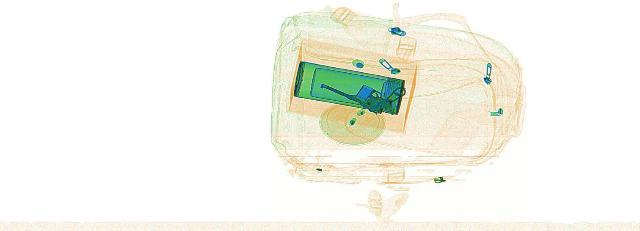Gun: (310, 71, 432, 114)
